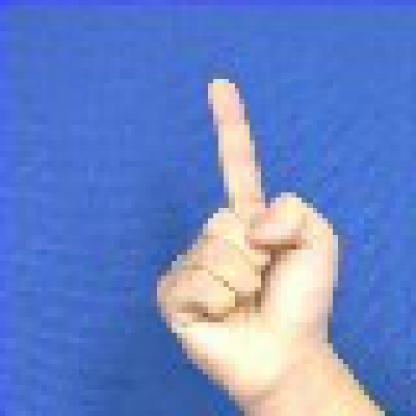one: (145, 61, 345, 409)
